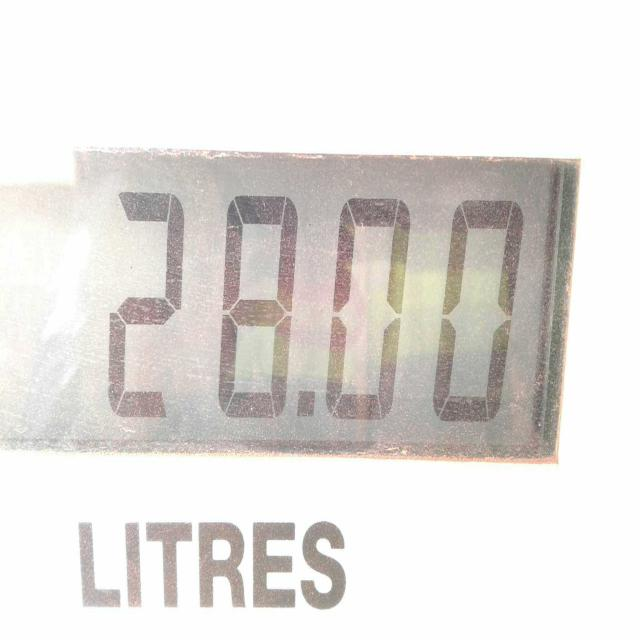.: (287, 378, 327, 434)
0: (426, 172, 532, 448), (318, 190, 418, 430)
2: (85, 179, 192, 430)
8: (196, 183, 306, 433)
